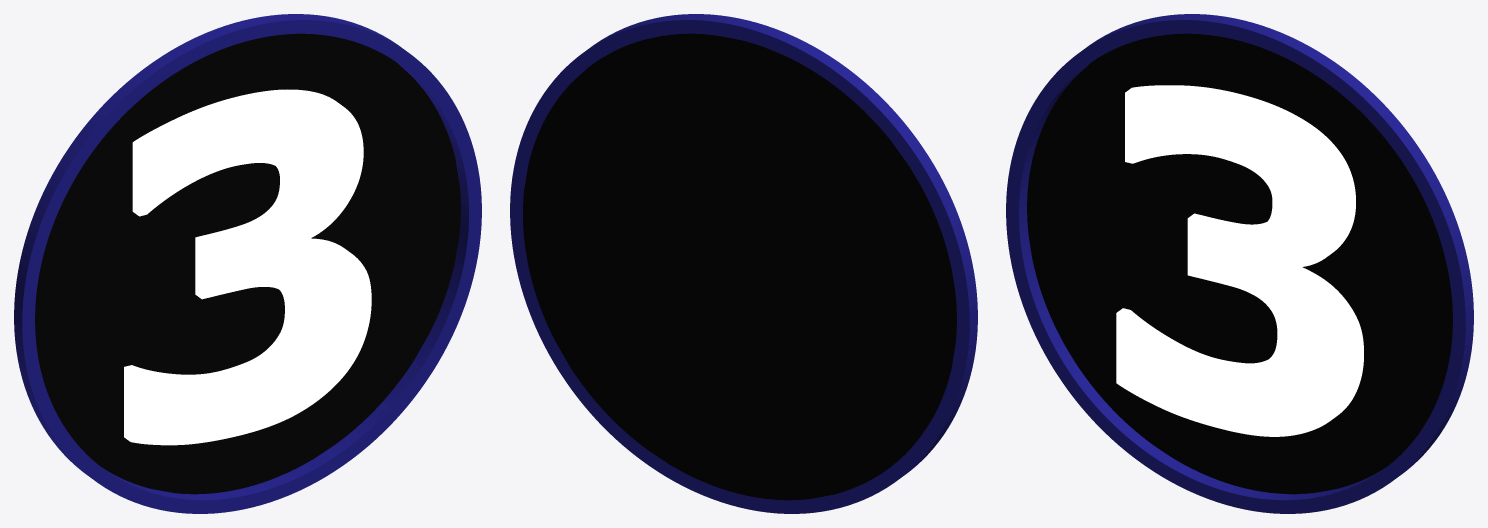
Rendered from Number3.glb.
The picture shows the model from 3 angles, left to right: view 1: azimuth 30°, elevation 25°; view 2: azimuth 150°, elevation 25°; view 3: azimuth 330°, elevation 25°; orthographic projection.
Visible parts, largest first — view 1: Circle; view 2: Circle; view 3: Circle.
Part boxes in pixels (x1=…): Circle: x1=14, y1=14, x2=481, y2=513; Circle: x1=510, y1=14, x2=977, y2=513; Circle: x1=1006, y1=14, x2=1473, y2=513.
Bounding box in the file's own units: 0.7231 × 0.7233 × 0.0223.
